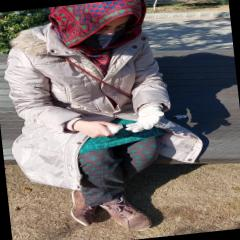gloved: (123, 103, 164, 133)
not-gloved: (70, 113, 119, 141)
